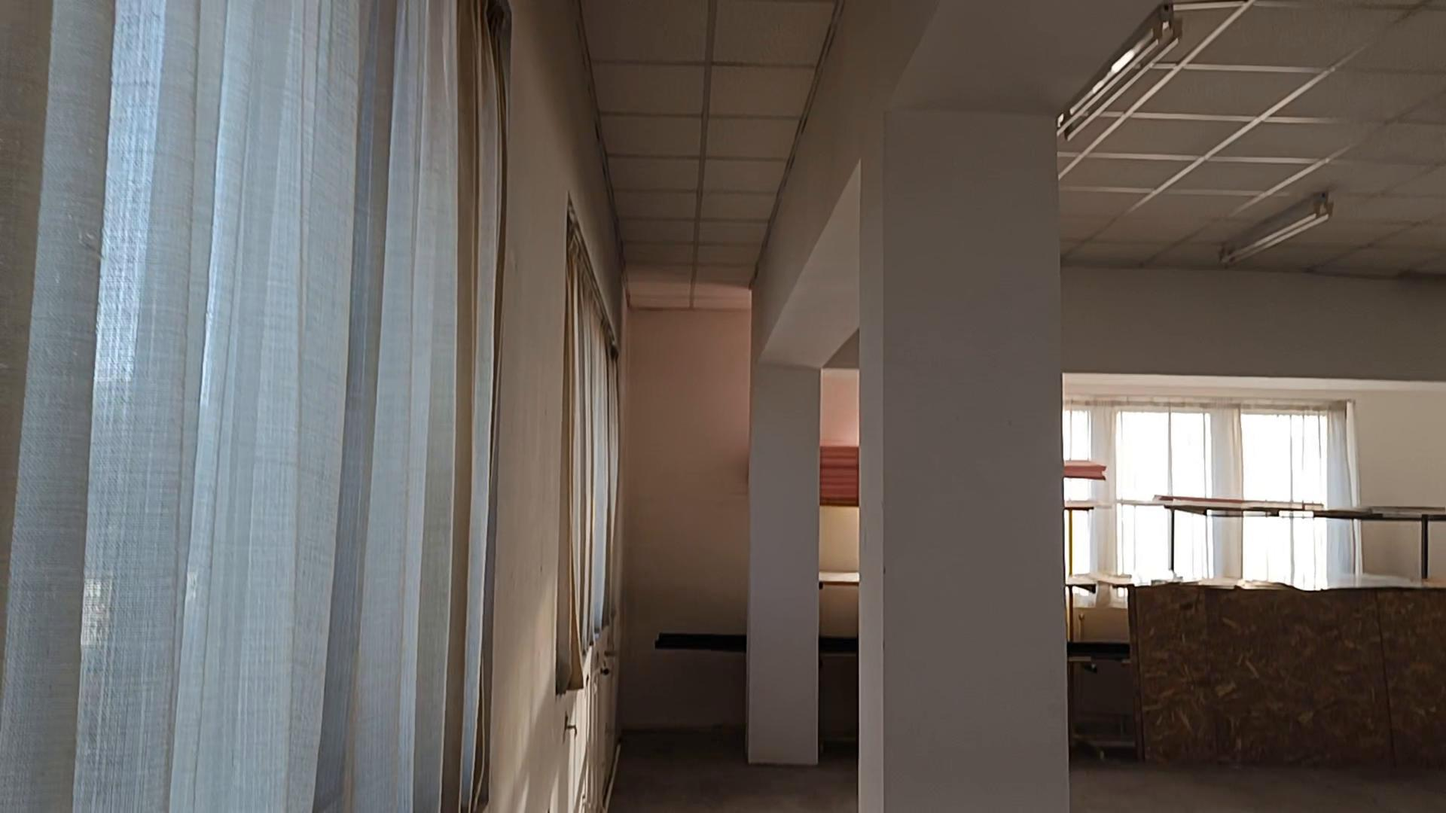ceiling: (1060, 0, 1445, 275), (580, 0, 840, 306)
floor: (609, 730, 856, 812), (1071, 758, 1445, 812)
wall: (749, 1, 1157, 767), (858, 112, 1069, 812), (490, 0, 624, 812), (1062, 265, 1436, 507), (628, 310, 748, 726)
